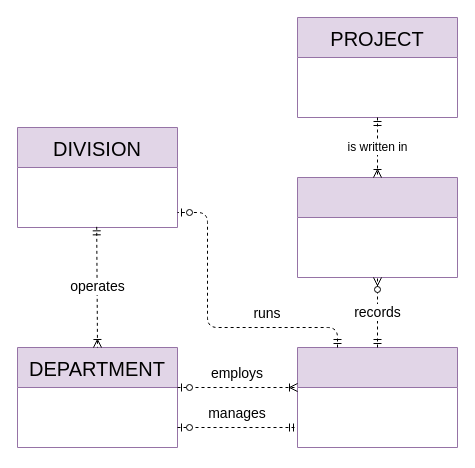
This 475x468 diagram has some shape labels left out. The shapes that lost their labels are listed below. From the top down, each one's centre as x and y in pixels, then its label:
At point (377, 227): "ASSIGNMENT".
At point (377, 397): "EMPLOYEE".
